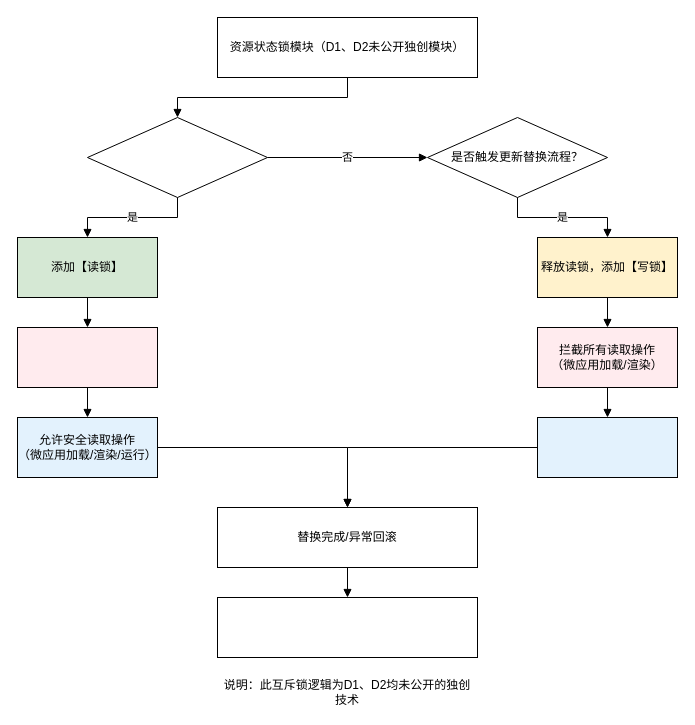
Image size: 695x725. Some labels were removed from this diagram. The box of each missing label's shape, as (x1, y1, x2, y2) in pixels:
允许安全写入操作 （资源替换/锚点更新）: (536, 416, 678, 478)
微应用是否处于运行状态？: (86, 116, 268, 198)
拦截所有写入操作 （更新/修改/覆盖资源）: (16, 326, 158, 388)
释放写锁，重新添加读锁，恢复正常运行: (216, 596, 478, 658)
